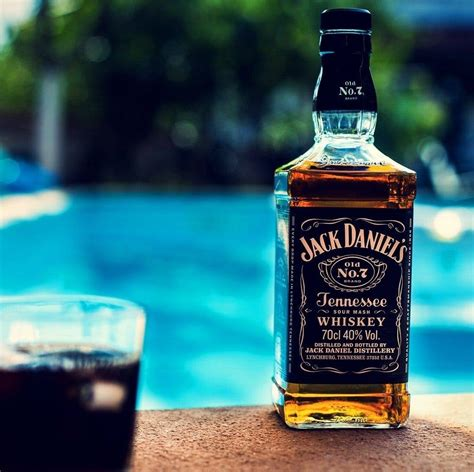alcohol: (272, 9, 419, 429), (1, 288, 153, 472)
